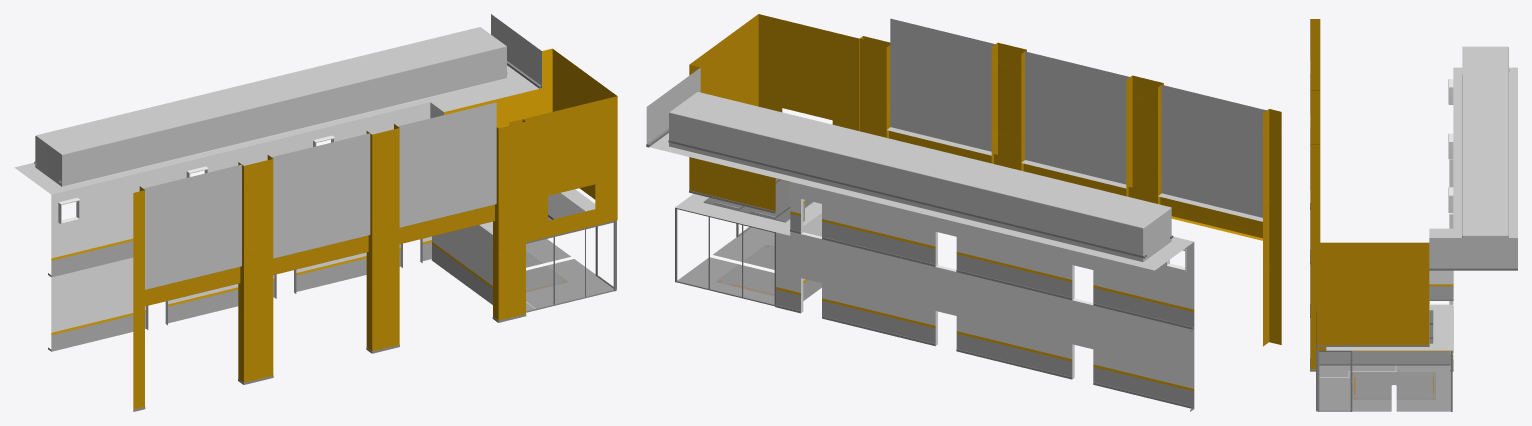
3 renders of one model, left to right at view 1: azimuth 30°, elevation 25°; view 2: azimuth 150°, elevation 25°; view 3: azimuth 270°, elevation 25°, orthographic. The views are drawn at different scales.
Visible parts, largest first — view 1: SM_H_Building_FutureTech_PrintArea_InterWall_04; view 2: SM_H_Building_FutureTech_PrintArea_InterWall_04; view 3: SM_H_Building_FutureTech_PrintArea_InterWall_04.
Boxes of the visible parts, left/top/right/bottom form: SM_H_Building_FutureTech_PrintArea_InterWall_04: left=14, top=14, right=617, bottom=411; SM_H_Building_FutureTech_PrintArea_InterWall_04: left=646, top=14, right=1281, bottom=411; SM_H_Building_FutureTech_PrintArea_InterWall_04: left=1310, top=19, right=1517, bottom=411.
Bounding box in the file's own units: 603 × 1424 × 611.
